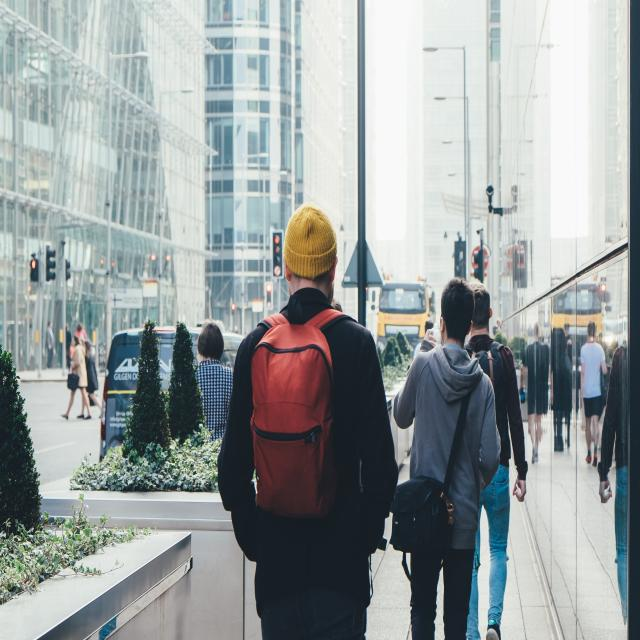backpack: (246, 304, 354, 525), (390, 476, 456, 556), (476, 339, 504, 393)
